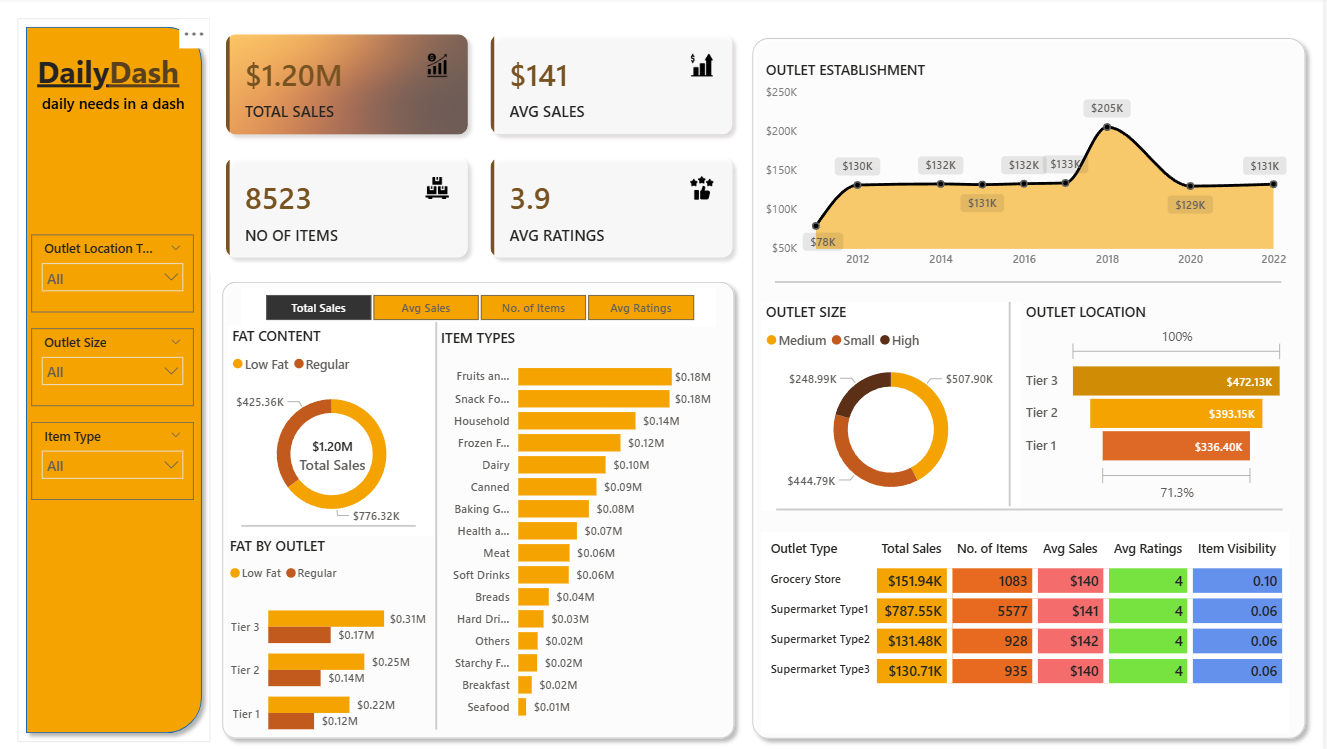

Layout of this report page (visuals, bound fields, positions):
{"tool":"powerbi","page":{"name":"Page 1","canvas":[1400,800],"ordinal":0},"visuals":[{"type":"shape","box":[18,22.5,204.1,765.4],"z":0},{"type":"textbox","box":[18,51,192.1,69],"z":1000},{"type":"textbox","box":[28.5,96.1,181.6,40.5],"z":2000},{"type":"cardVisual","fields":{"Data":["DailyDash Grocery Data.Total Sales","DailyDash Grocery Data.Avg Sales","DailyDash Grocery Data.No. of Items","DailyDash Grocery Data.Avg Ratings"]},"box":[222.1,22.5,570.3,270.2],"z":3000},{"type":"shape","box":[226.6,292.7,559.8,501.3],"z":4000},{"type":"donutChart","title":"FAT CONTENT","fields":{"Y":["DailyDash Grocery Data.Total Sales"],"Category":["DailyDash Grocery Data.Item Fat Content"]},"box":[240.1,348.2,220.6,222.1],"z":5000},{"type":"slicer","fields":{"Values":["Metrics.Metrics"]},"box":[255.1,307.7,502.8,40.5],"z":6000},{"type":"cardVisual","fields":{"Data":["DailyDash Grocery Data.Total Sales"]},"box":[297.2,450.3,108.1,69],"z":7000},{"type":"clusteredBarChart","title":"FAT BY OUTLET","fields":{"Y":["DailyDash Grocery Data.Total Sales"],"Series":["DailyDash Grocery Data.Item Fat Content"],"Category":["DailyDash Grocery Data.Outlet Location Type"]},"box":[238.1,570.1,218.3,230.2],"z":8000},{"type":"shape","box":[255.1,496.8,184.6,124.6],"z":9000},{"type":"shape","box":[313.5,343.9,296.3,431.2],"z":10000},{"type":"barChart","title":"ITEM TYPES","fields":{"Y":["DailyDash Grocery Data.Total Sales"],"Category":["DailyDash Grocery Data.Item Type"]},"box":[461.6,350.5,296.3,424.6],"z":11000},{"type":"shape","box":[786.5,34.5,603.3,759.4],"z":12000},{"type":"lineChart","title":"OUTLET ESTABLISHMENT","fields":{"Category":["DailyDash Grocery Data.Outlet Establishment Year"],"Y":["DailyDash Grocery Data.Total Sales"]},"box":[806,66,561.3,229.6],"z":13000},{"type":"shape","box":[819.5,273.2,535.8,55.5],"z":14000},{"type":"donutChart","title":"OUTLET SIZE","fields":{"Y":["DailyDash Grocery Data.Total Sales"],"Category":["DailyDash Grocery Data.Outlet Size"]},"box":[806,322.7,274.7,220.6],"z":15000},{"type":"shape","box":[920,322.7,295.7,216.1],"z":16000},{"type":"funnel","title":"OUTLET LOCATION","fields":{"Category":["DailyDash Grocery Data.Outlet Location Type"],"Y":["DailyDash Grocery Data.Total Sales"]},"box":[1080.6,322.7,283.7,216.1],"z":17000},{"type":"pivotTable","fields":{"Rows":["DailyDash Grocery Data.Outlet Type"],"Values":["DailyDash Grocery Data.Total Sales","DailyDash Grocery Data.No. of Items","DailyDash Grocery Data.Avg Sales","DailyDash Grocery Data.Avg Ratings","Avg(DailyDash Grocery Data.Item Visibility)"]},"box":[805.6,566.1,558.2,213],"z":18000},{"type":"shape","box":[821,514.8,535.8,55.5],"z":19000},{"type":"slicer","fields":{"Values":["DailyDash Grocery Data.Outlet Location Type"]},"box":[33.1,251.3,172,82],"z":20000},{"type":"slicer","fields":{"Values":["DailyDash Grocery Data.Outlet Size"]},"box":[33.1,350.5,172,82],"z":21000},{"type":"slicer","fields":{"Values":["DailyDash Grocery Data.Item Type"]},"box":[33.1,449.7,172,82],"z":22000}]}

Visuals, with their boxes in screenshot pixels (x1, y1, x2, y2), scaled from the page's 1400x800 canvas onto the 1327x749 screenshot:
shape: x1=17 y1=21 x2=211 y2=738
textbox: x1=17 y1=48 x2=199 y2=112
textbox: x1=27 y1=90 x2=199 y2=128
cardVisual - DailyDash Grocery Data.Total Sales x DailyDash Grocery Data.Avg Sales: x1=211 y1=21 x2=751 y2=274
shape: x1=215 y1=274 x2=745 y2=743
"FAT CONTENT" donutChart: x1=228 y1=326 x2=437 y2=534
slicer - Metrics.Metrics: x1=242 y1=288 x2=718 y2=326
cardVisual - DailyDash Grocery Data.Total Sales: x1=282 y1=422 x2=384 y2=486
"FAT BY OUTLET" clusteredBarChart: x1=226 y1=534 x2=433 y2=748
shape: x1=242 y1=465 x2=417 y2=582
shape: x1=297 y1=322 x2=578 y2=726
"ITEM TYPES" barChart: x1=438 y1=328 x2=718 y2=726
shape: x1=745 y1=32 x2=1317 y2=743
"OUTLET ESTABLISHMENT" lineChart: x1=764 y1=62 x2=1296 y2=277
shape: x1=777 y1=256 x2=1285 y2=308
"OUTLET SIZE" donutChart: x1=764 y1=302 x2=1024 y2=509
shape: x1=872 y1=302 x2=1152 y2=504
"OUTLET LOCATION" funnel: x1=1024 y1=302 x2=1293 y2=504
pivotTable - DailyDash Grocery Data.Outlet Type x DailyDash Grocery Data.Total Sales: x1=764 y1=530 x2=1293 y2=729
shape: x1=778 y1=482 x2=1286 y2=534
slicer - DailyDash Grocery Data.Outlet Location Type: x1=31 y1=235 x2=194 y2=312
slicer - DailyDash Grocery Data.Outlet Size: x1=31 y1=328 x2=194 y2=405
slicer - DailyDash Grocery Data.Item Type: x1=31 y1=421 x2=194 y2=498
